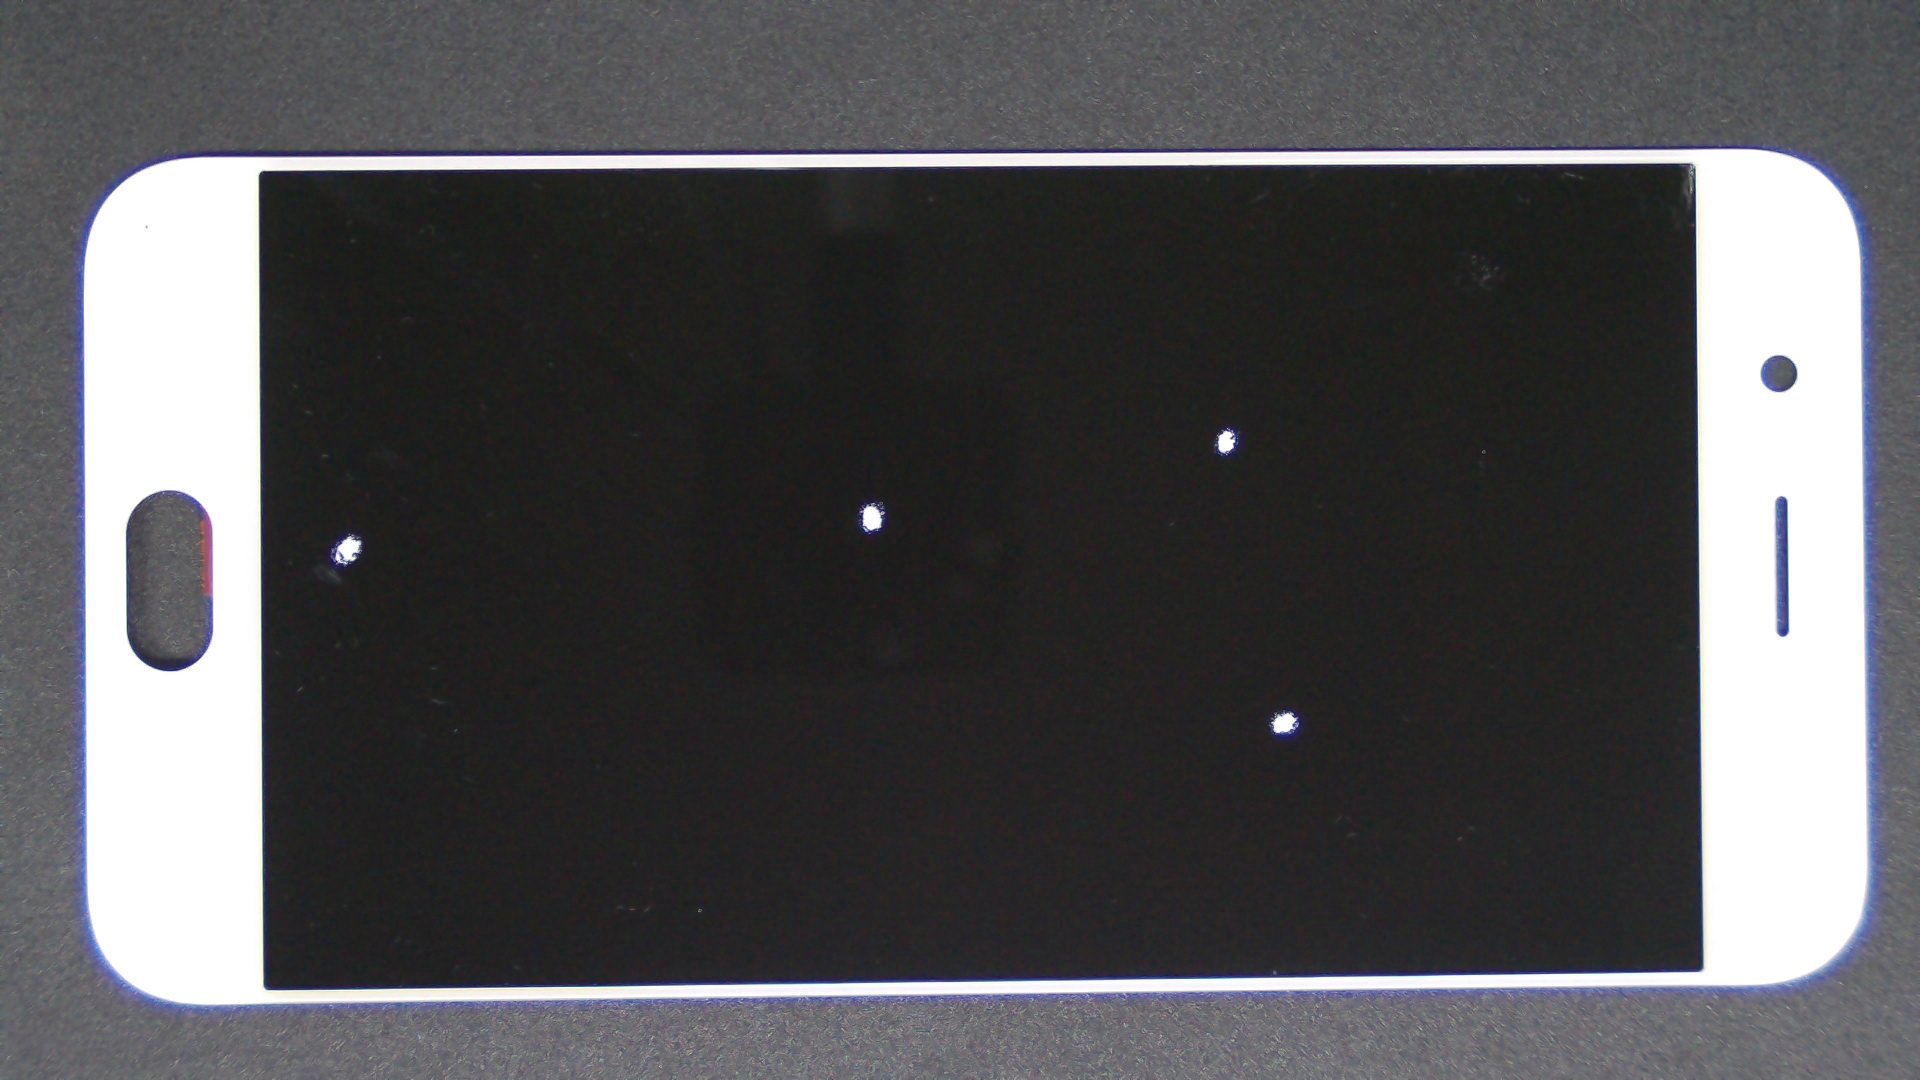defect: (328, 531, 364, 567), (856, 498, 886, 535), (1266, 708, 1300, 736), (1213, 426, 1240, 458)
